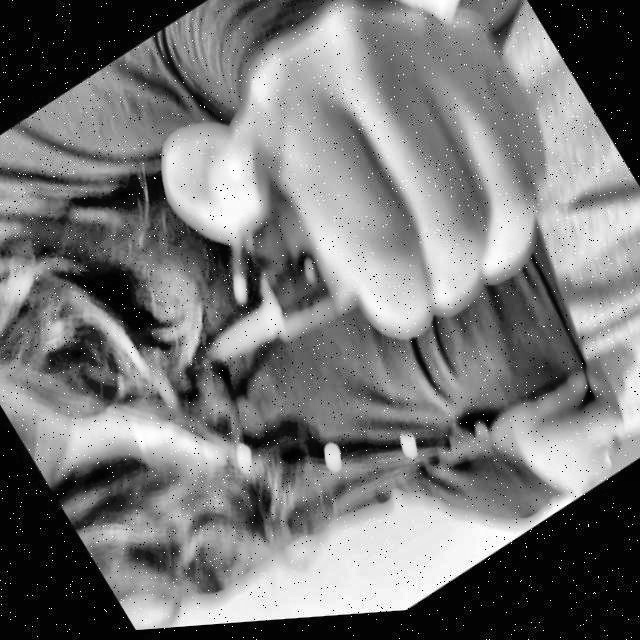Fire: (188, 303, 290, 391)
